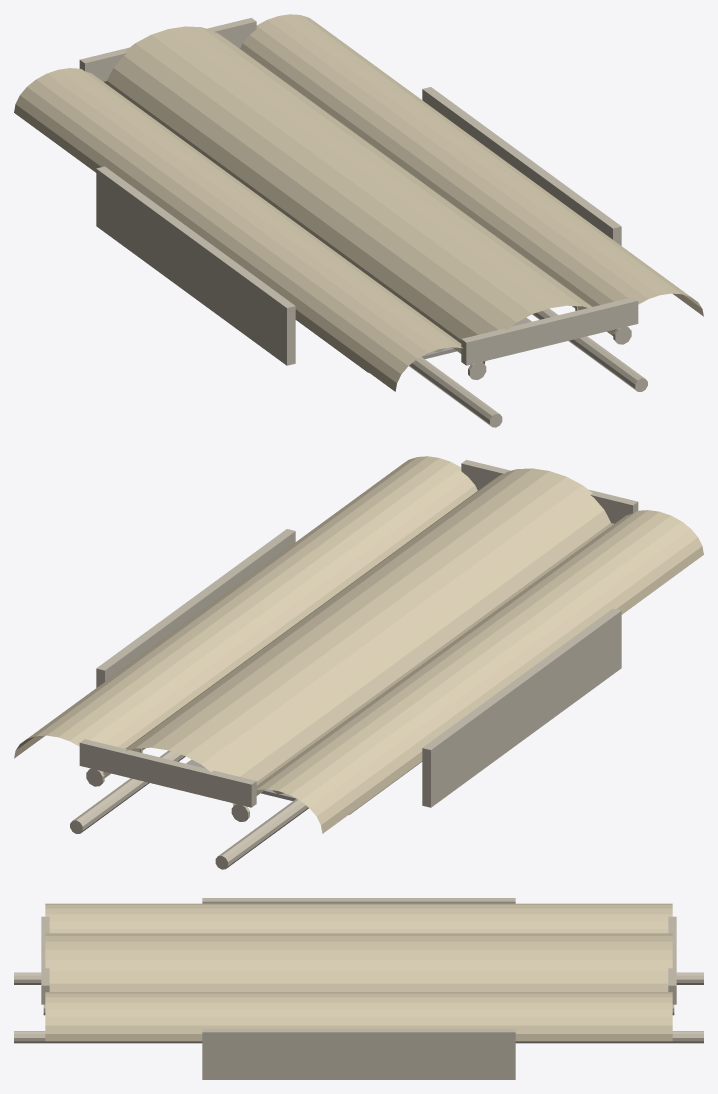
Rendered from cp_bethesda_arcade.glb.
The picture shows the model from 3 angles, top to bottom: view 1: azimuth 30°, elevation 25°; view 2: azimuth 150°, elevation 25°; view 3: azimuth 270°, elevation 25°; orthographic projection. The views are drawn at different scales.
Visible parts, largest first — view 1: BethesdaArcade; view 2: BethesdaArcade; view 3: BethesdaArcade.
Boxes of the visible parts, x1,y1,x2,y2 form: BethesdaArcade: (14, 14, 703, 427); BethesdaArcade: (14, 456, 703, 869); BethesdaArcade: (14, 898, 703, 1079).
Bounding box in the file's own units: 15.2 × 4.93 × 33.
